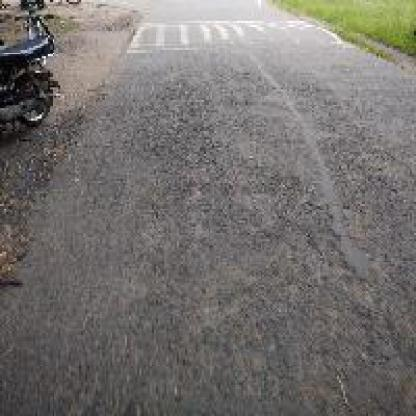Speed Bump: (122, 15, 358, 54)
